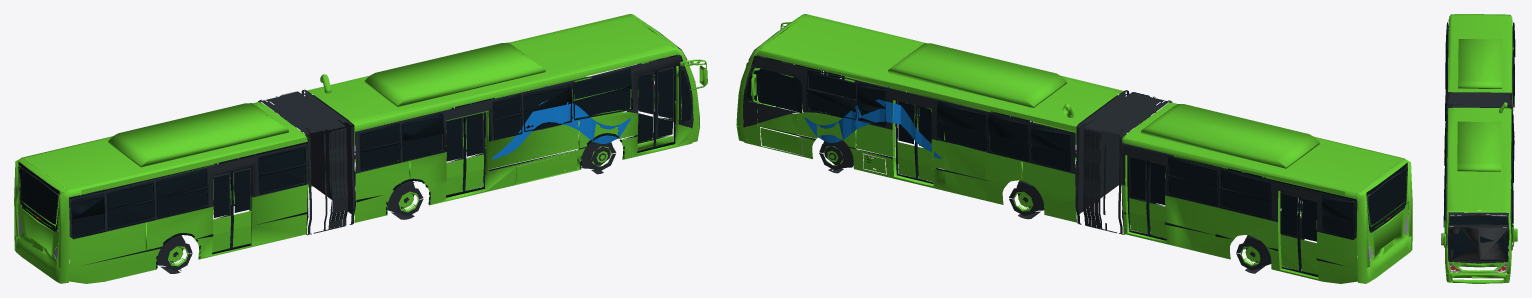
The model's file is sao-paulo-bus.glb.
3 views of the same model, side by side, from view 1: azimuth 30°, elevation 25°; view 2: azimuth 150°, elevation 25°; view 3: azimuth 270°, elevation 25° (orthographic). The views are drawn at different scales.
Visible parts, largest first — view 1: BusBody, BusGlass, BusTrim, BusSweep; view 2: BusBody, BusGlass, BusTrim, BusSweep; view 3: BusBody, BusGlass, BusTrim, BusRubber, BusMetal.
Part boxes in pixels (x1=…): BusBody: x1=14, y1=14, x2=707, y2=283; BusGlass: x1=18, y1=25, x2=691, y2=268; BusTrim: x1=18, y1=26, x2=695, y2=273; BusSweep: x1=470, y1=86, x2=630, y2=159; BusBody: x1=736, y1=14, x2=1412, y2=283; BusGlass: x1=743, y1=27, x2=1407, y2=277; BusTrim: x1=740, y1=26, x2=1407, y2=273; BusSweep: x1=804, y1=86, x2=941, y2=159; BusBody: x1=1441, y1=14, x2=1517, y2=283; BusGlass: x1=1443, y1=20, x2=1515, y2=258; BusTrim: x1=1444, y1=29, x2=1514, y2=263; BusRubber: x1=1441, y1=214, x2=1509, y2=261; BusMetal: x1=1449, y1=262, x2=1507, y2=272.
Size of the model in its own units: 16.76 by 3.1 by 2.63.
